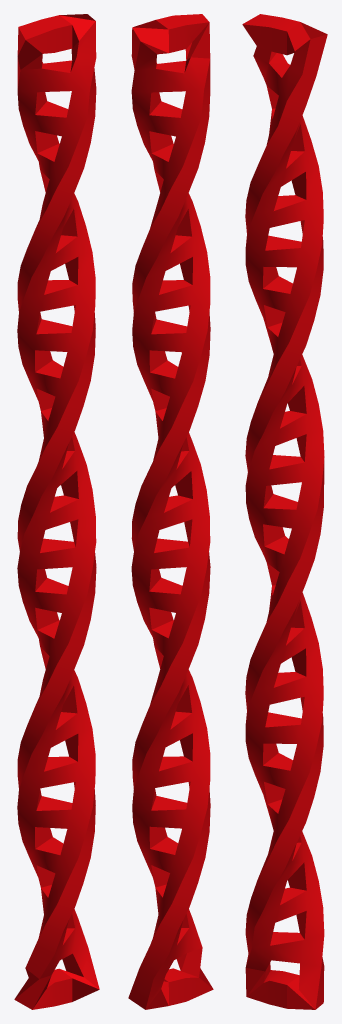
Rendered from DNA.glb.
The picture shows the model from 3 angles, left to right: view 1: azimuth 30°, elevation 25°; view 2: azimuth 210°, elevation 25°; view 3: azimuth 330°, elevation 25°; orthographic projection.
Visible parts, largest first — view 1: Plane; view 2: Plane; view 3: Plane.
Boxes of the visible parts, <box> form: Plane: <box>14,14,99,1009</box>; Plane: <box>128,14,213,1009</box>; Plane: <box>242,14,327,1009</box>.
Bounding box in the file's own units: 1.62 × 20.5 × 1.51.
